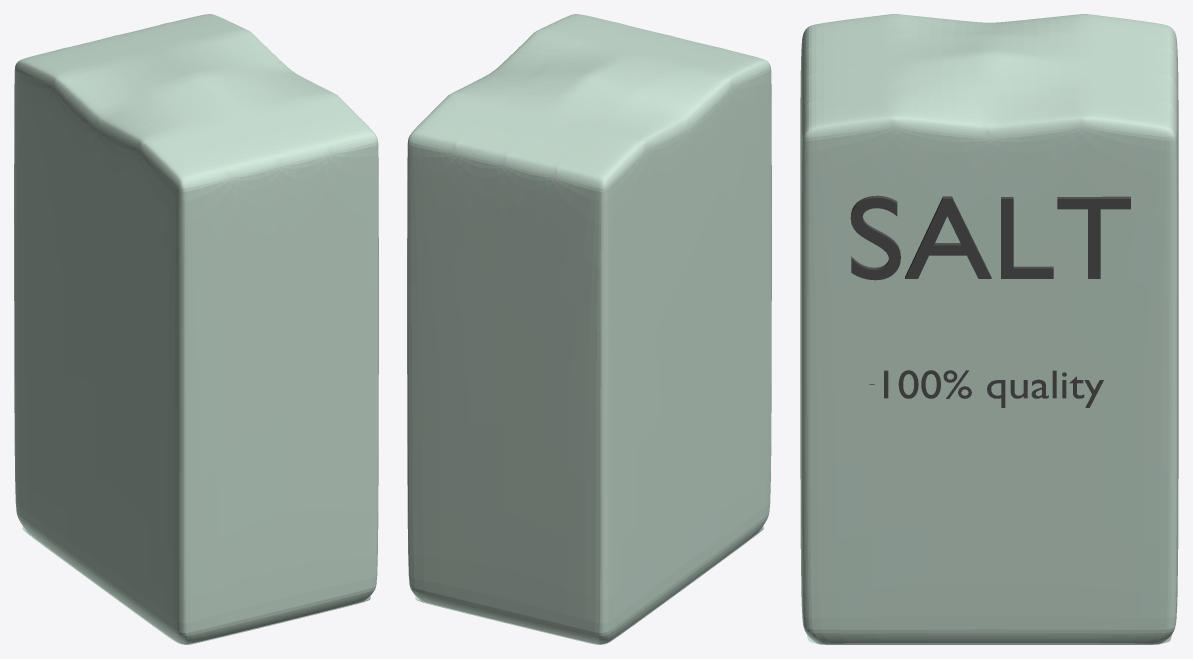
File: Salt.fbx
3 renders of one model, left to right at view 1: azimuth 30°, elevation 25°; view 2: azimuth 150°, elevation 25°; view 3: azimuth 270°, elevation 25°, orthographic. The views are drawn at different scales.
Parts seen in each view (by area): view 1: Cube; view 2: Cube; view 3: Cube, Text, Text.001.
Part boxes in pixels (bbox=[...]): Cube: bbox=[14, 14, 378, 644]; Cube: bbox=[407, 14, 771, 644]; Cube: bbox=[800, 14, 1178, 644]; Text: bbox=[850, 195, 1130, 280]; Text.001: bbox=[869, 370, 1103, 407].
Bounding box in the file's own units: 139 × 316 × 200.
